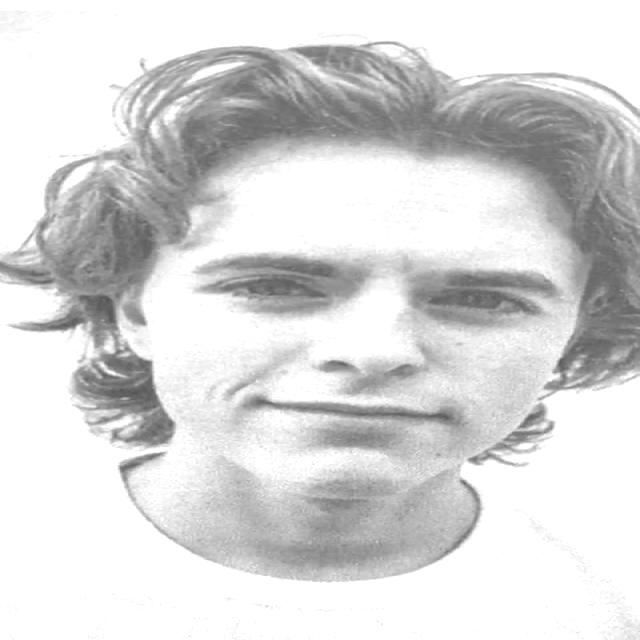fake: (144, 154, 582, 498)
